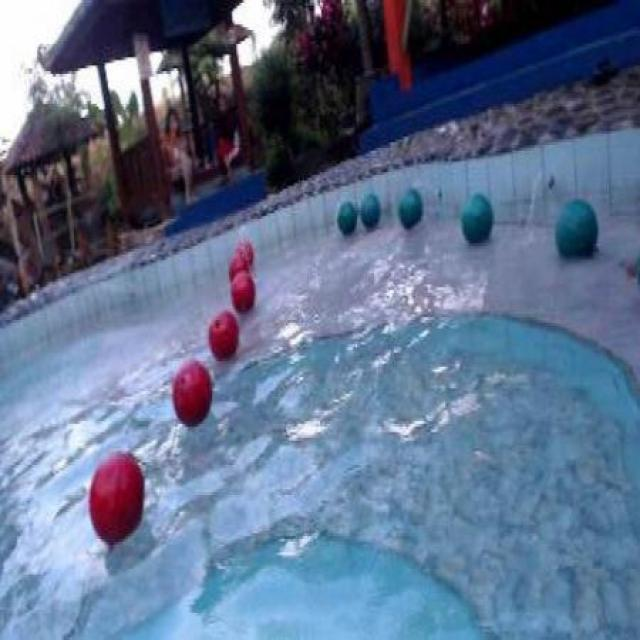buoy: (86, 452, 144, 544), (554, 196, 598, 258), (170, 357, 210, 425), (207, 307, 240, 360), (461, 189, 493, 243), (396, 186, 422, 230), (229, 271, 256, 309), (359, 188, 381, 227), (336, 198, 356, 234), (228, 253, 250, 283), (235, 240, 254, 270)
